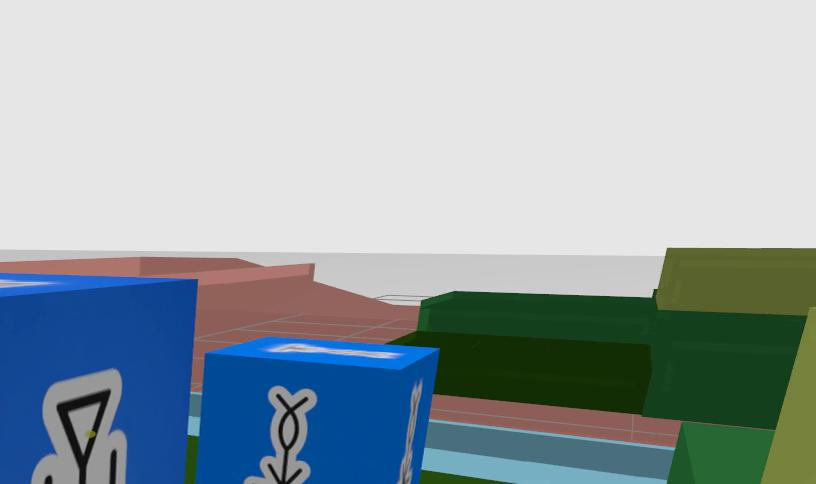KFS_REAL: (195, 336, 439, 483), (31, 370, 127, 483), (244, 386, 316, 483), (396, 381, 422, 483), (266, 343, 402, 358)
